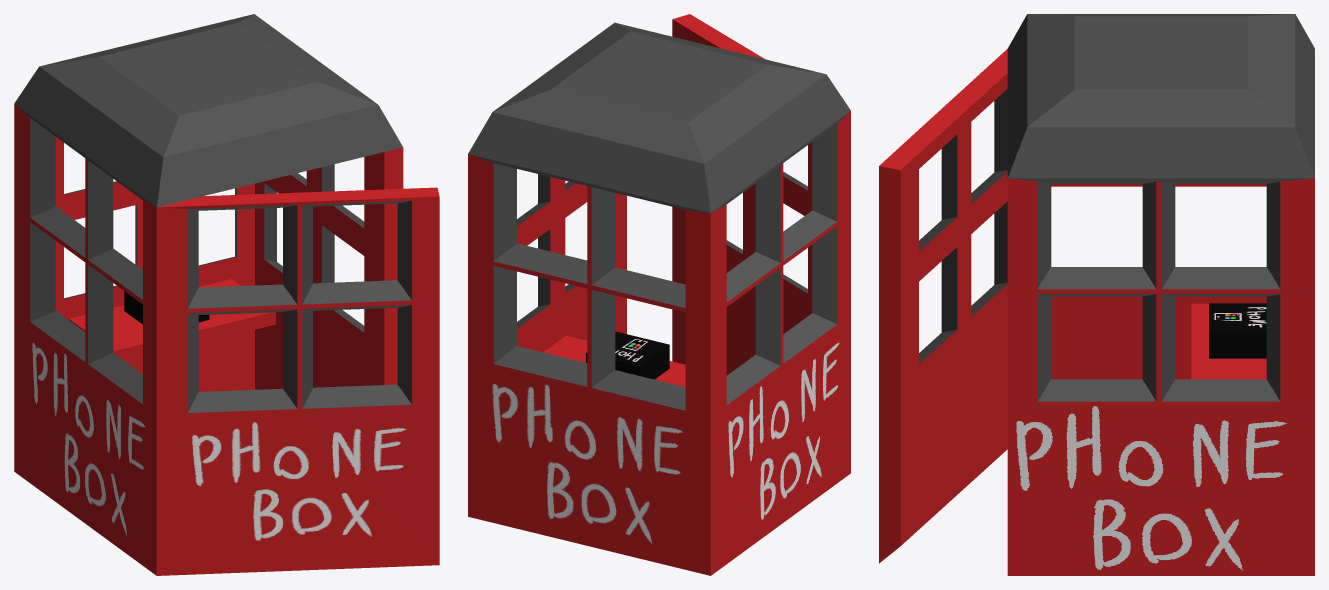
The model's file is PhoneBox.fbx.
3 views of the same model, side by side, from view 1: azimuth 30°, elevation 25°; view 2: azimuth 150°, elevation 25°; view 3: azimuth 270°, elevation 25° (orthographic). The views are drawn at different scales.
Visible parts, largest first — view 1: Cube; view 2: Cube; view 3: Cube.
Part boxes in pixels (x1,y1,x2,y2): Cube: (14, 14, 439, 575); Cube: (468, 14, 850, 575); Cube: (879, 14, 1314, 575).
Bounding box in the file's own units: 198 × 326 × 281.
